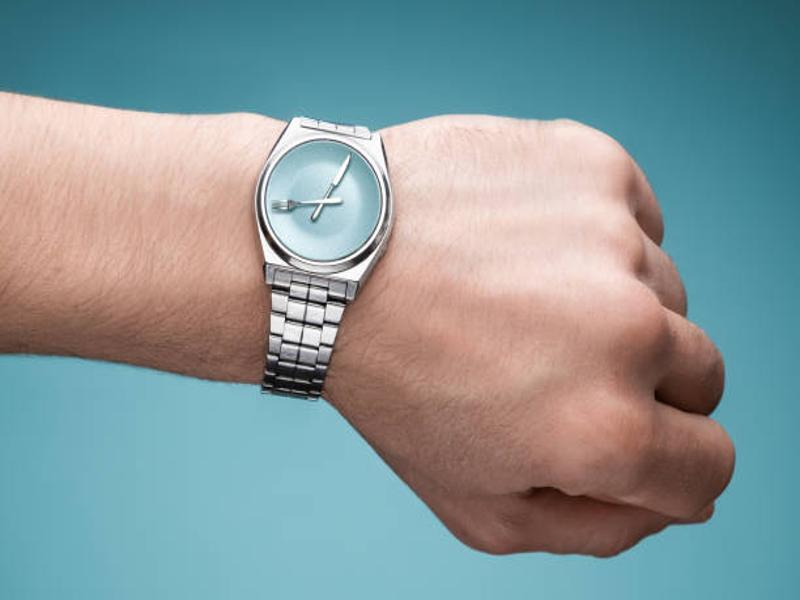watch: (246, 115, 395, 400)
